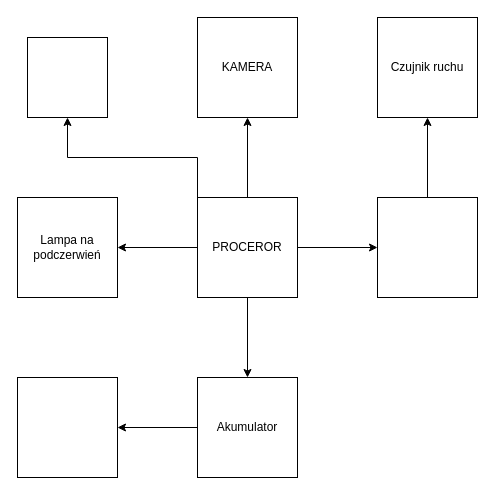
This 495x495 diagram has some shape labels left out. Here are the shapes that lost their labels. From the top down, the centre of each, then its label:
(67,77): Modem LTE
(427,247): Minikontroler
(67,427): Panele słoneczne
